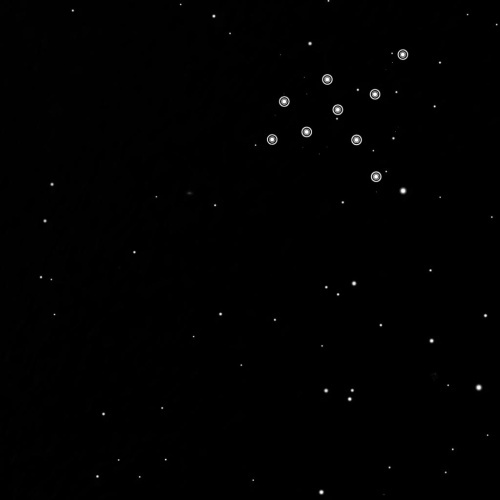cygnus: (263, 43, 411, 187)
